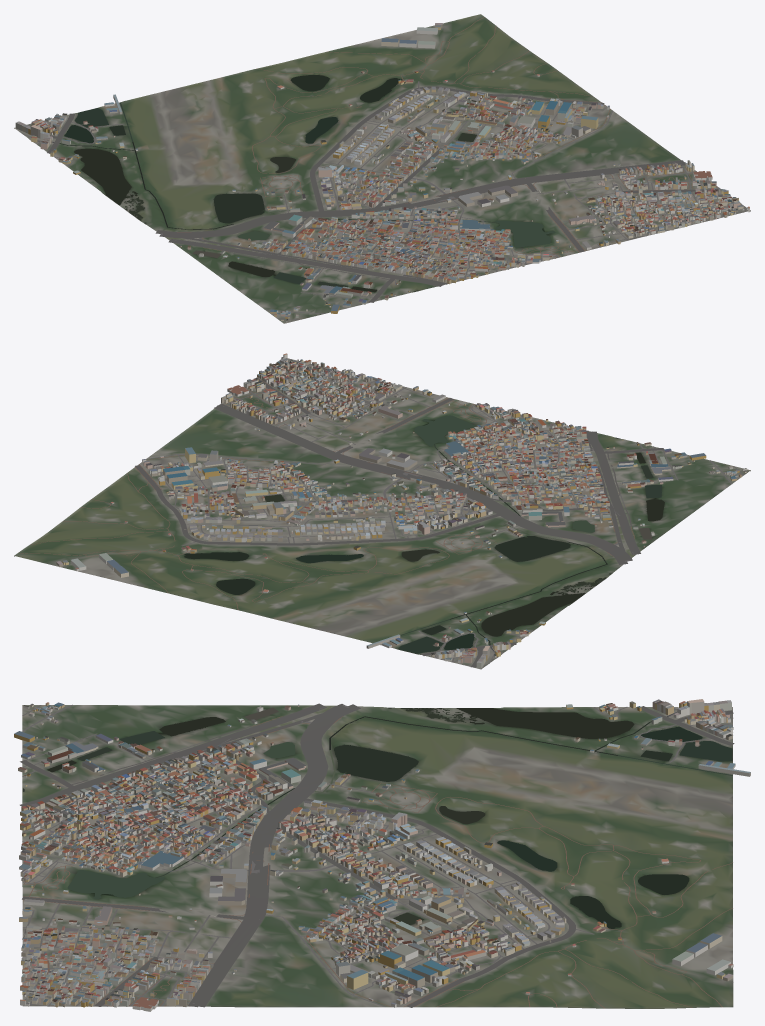
3 renders of one model, top to bottom at view 1: azimuth 30°, elevation 25°; view 2: azimuth 150°, elevation 25°; view 3: azimuth 270°, elevation 25°, orthographic. The views are drawn at different scales.
Parts seen in each view (by area): view 1: ground, buildings, roads, water; view 2: ground, buildings, roads, water; view 3: ground, buildings, roads, water.
Boxes of the visible parts, x1,y1,x2,y2 form: ground: [14, 14, 750, 323]; buildings: [15, 23, 749, 322]; roads: [22, 17, 746, 319]; water: [31, 75, 554, 292]; ground: [14, 358, 750, 669]; buildings: [56, 353, 747, 668]; roads: [18, 358, 743, 667]; water: [184, 415, 664, 657]; ground: [22, 705, 733, 1008]; buildings: [14, 699, 750, 1011]; roads: [20, 703, 734, 1008]; water: [23, 707, 732, 928].
Size of the model in its own units: 1435 by 32.18 by 1454.
